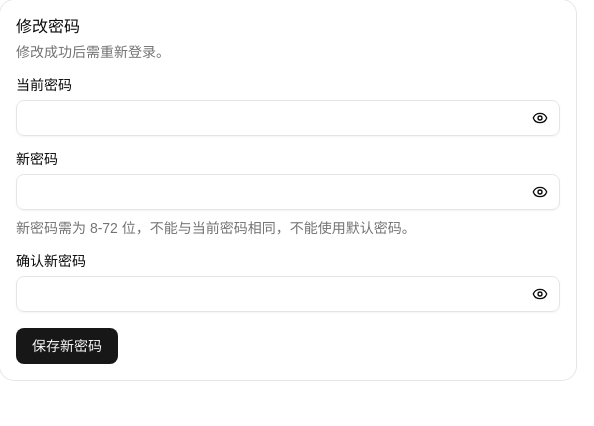
teacher PasswordChangeForm › does not POST a 7-character new password and caps input at 72
Step 1. Type "oldpass1" into the password field labelled "当前密码" → (288, 118), box 16,100 -> 560,136
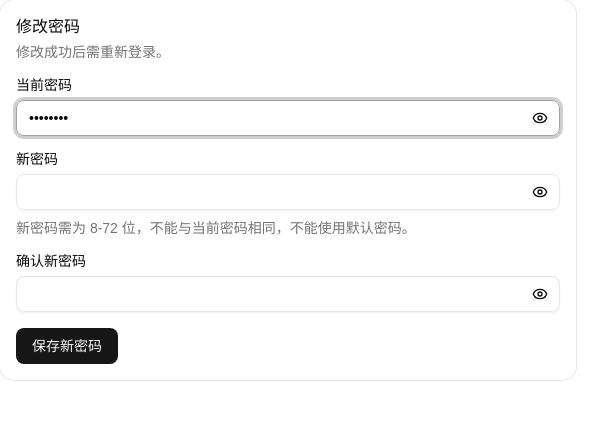
Step 2. Type "1234567" into the password field labelled "新密码" → (288, 192), box 16,174 -> 560,210
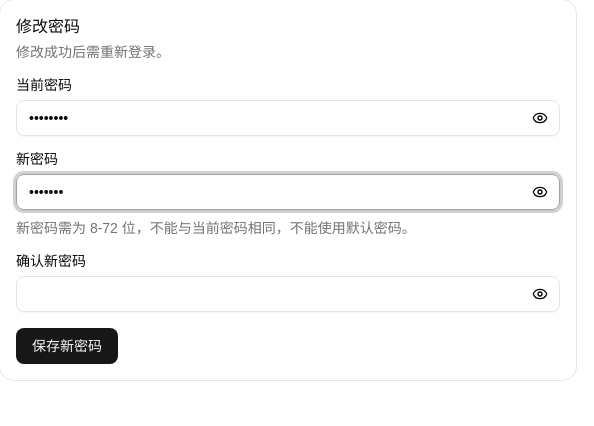
Step 3. Type "1234567" into the password field labelled "确认新密码" → (288, 294), box 16,276 -> 560,312
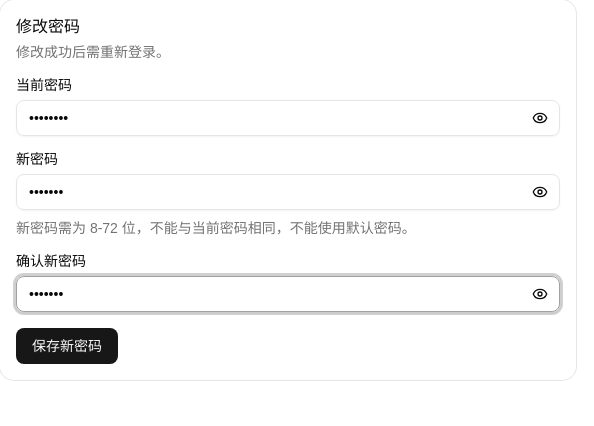
Step 4. Click the button "保存新密码" → (67, 346), box 16,328 -> 118,364
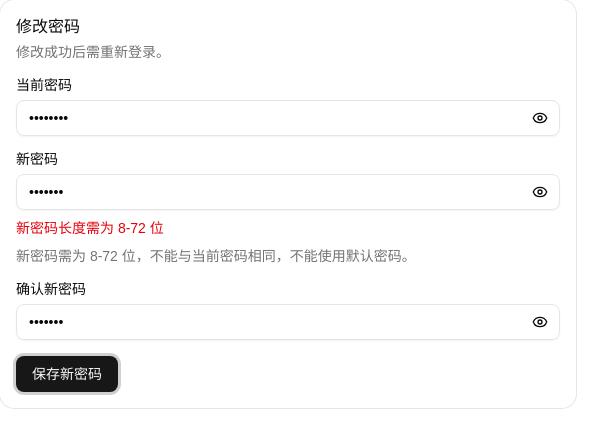
Check: the text "新密码长度需为 8-72 位" is shown, box 16,220 -> 164,236
